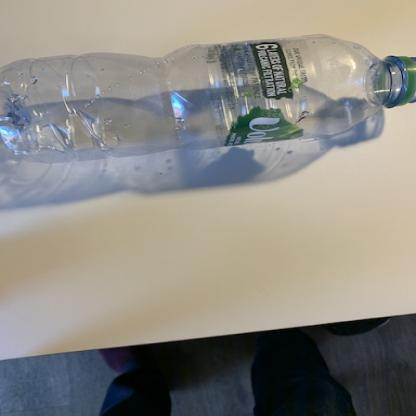trash: (0, 35, 414, 160)
